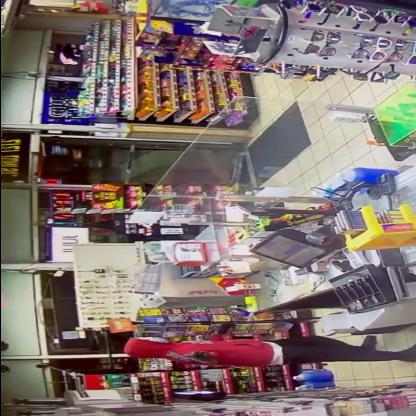Pistol: (182, 343, 212, 365)
